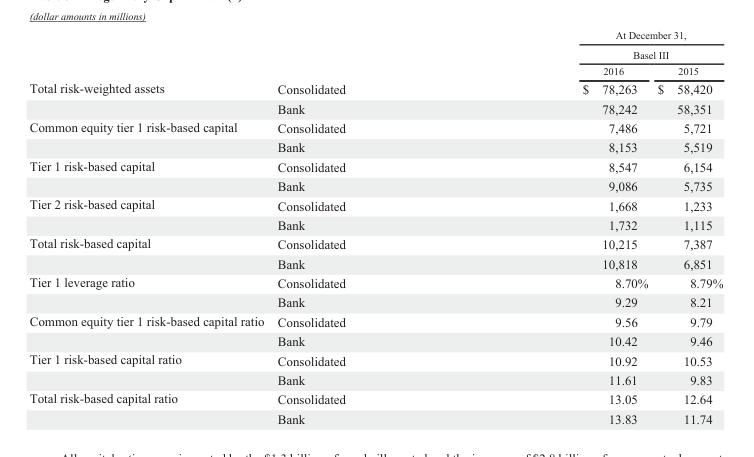table: (28, 29, 722, 425)
table column: (28, 29, 270, 425), (270, 29, 463, 425), (463, 29, 652, 425), (652, 29, 722, 425)
table column header: (28, 29, 722, 78)
table row: (28, 29, 722, 62), (28, 78, 722, 98), (28, 117, 722, 137), (28, 156, 722, 176), (28, 194, 722, 214), (28, 233, 722, 253), (28, 272, 722, 292), (28, 311, 722, 331), (28, 349, 722, 369), (28, 388, 722, 408), (28, 98, 722, 117), (28, 137, 722, 156), (28, 214, 722, 233), (28, 253, 722, 272), (28, 292, 722, 311), (28, 369, 722, 388), (28, 176, 722, 194), (28, 331, 722, 349), (28, 408, 722, 425), (28, 62, 722, 78)
table spanning cell: (28, 78, 270, 117), (28, 117, 270, 156), (28, 194, 270, 233), (28, 233, 270, 272), (28, 272, 270, 311), (28, 349, 270, 388), (28, 156, 270, 194), (28, 311, 270, 349), (28, 388, 270, 425), (463, 29, 722, 62)
